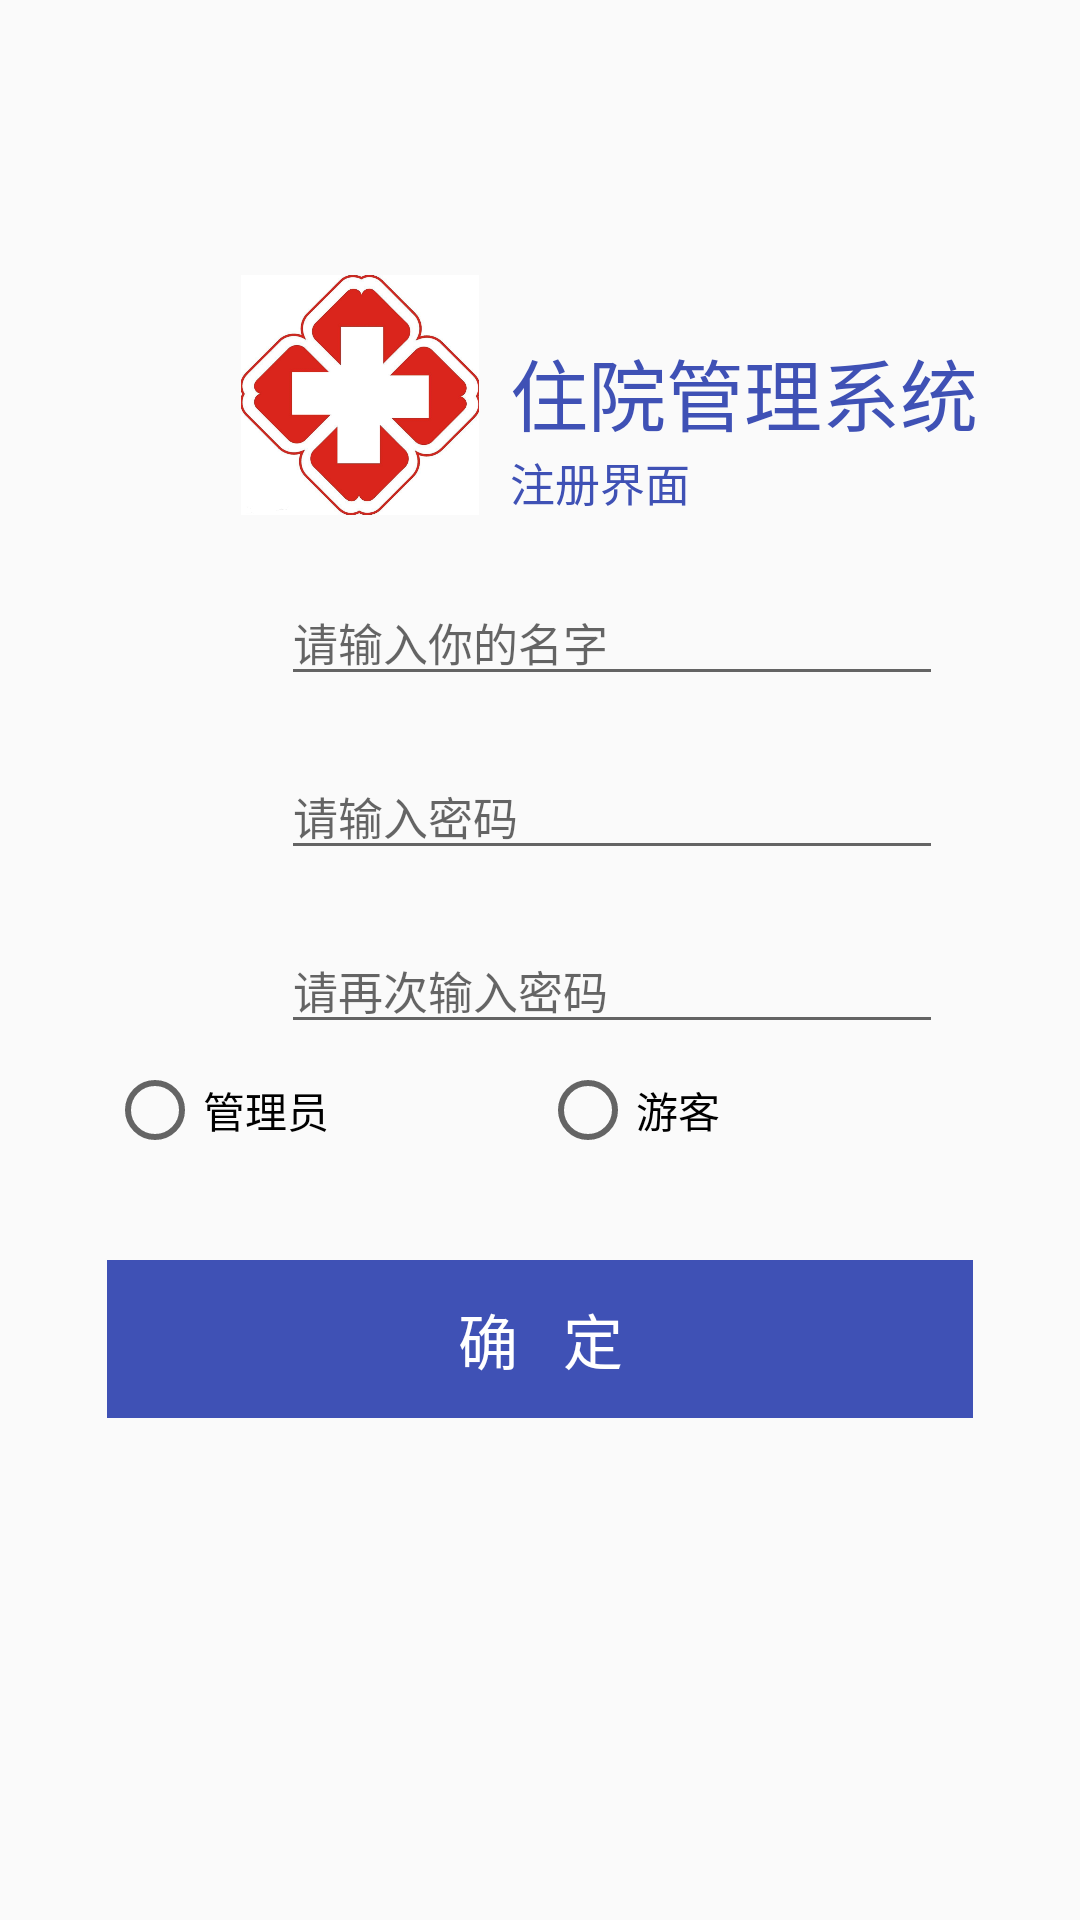

Icon click points for this 1080px×1920px phone screenshot, format (x=x, y=y):
hospital: (x=360, y=395)
